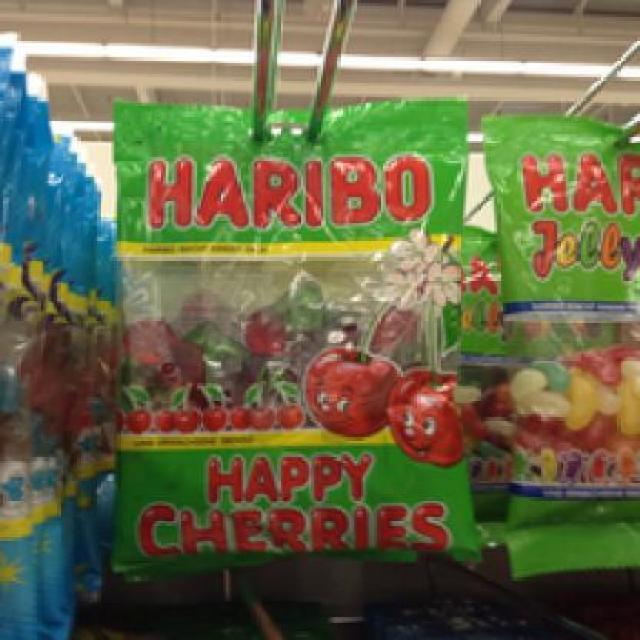Candy: (114, 88, 472, 578), (477, 106, 637, 572)
